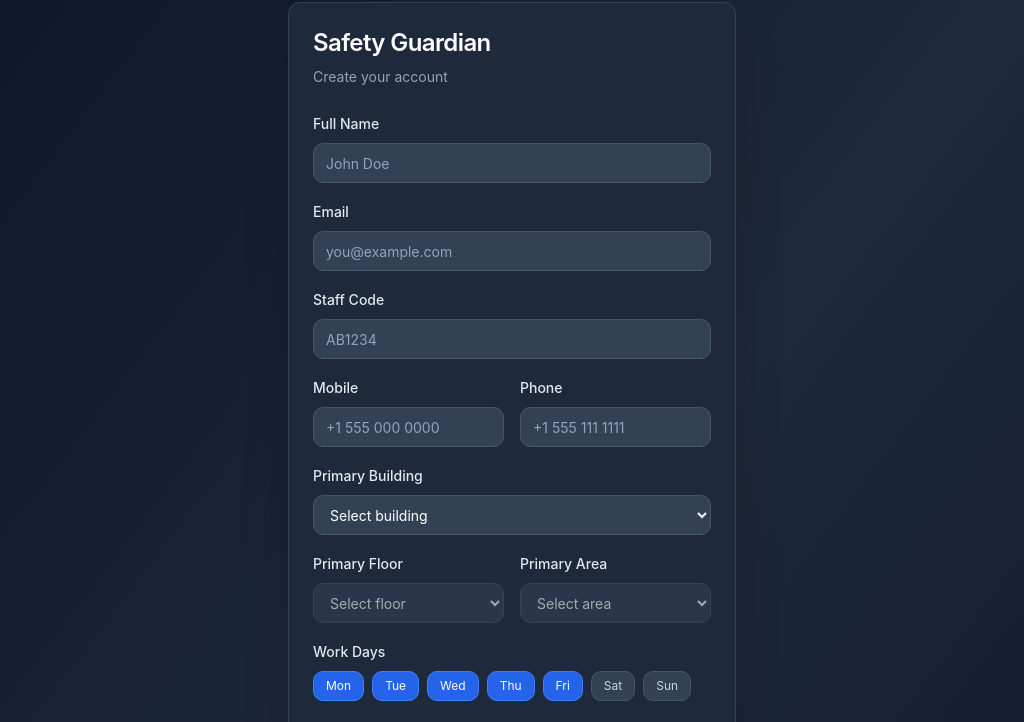
Test: Auth page UI negative states › shows register validation for short password and mismatched passwords
The image size is (1024, 722).
In the field labelled "Full Name": x=512, y=163 [313,143,711,183], type "Safety User"
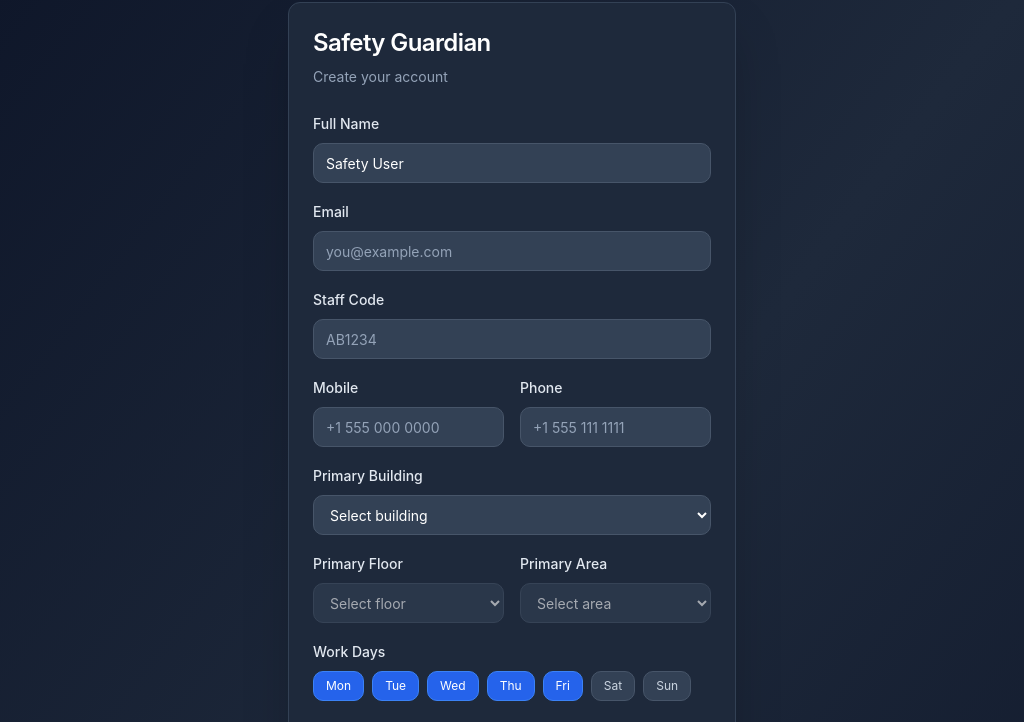
In the field labelled "Email": x=512, y=251 [313,231,711,271], type "user@example.com"
(page scrolled)
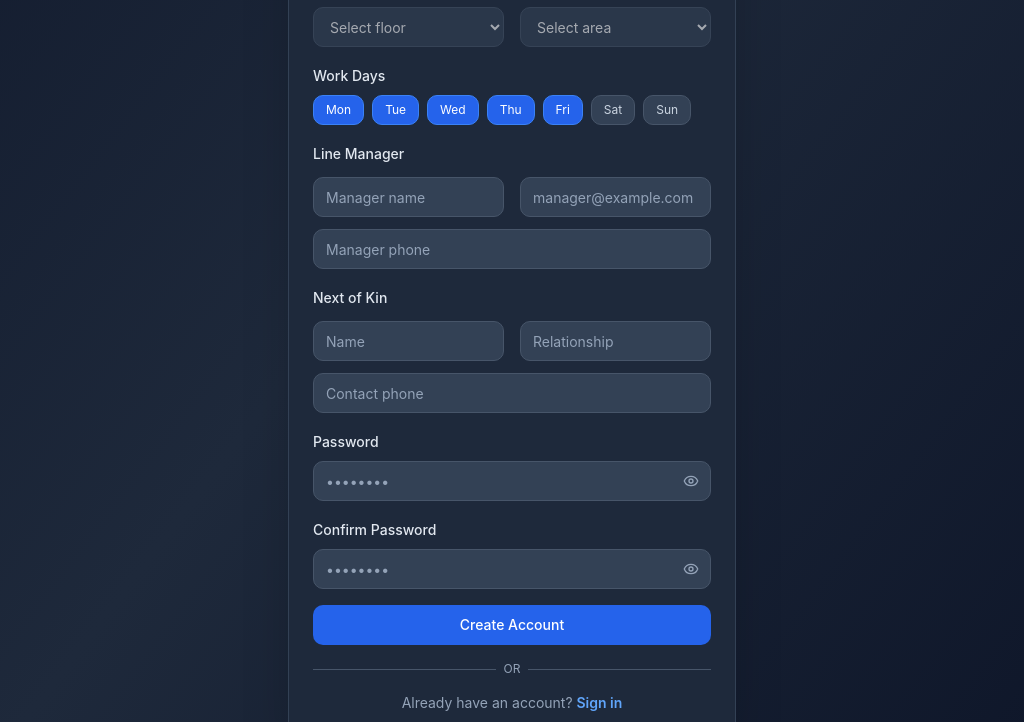
In the password field labelled "Password": x=512, y=481 [313,461,711,501], type "12345"
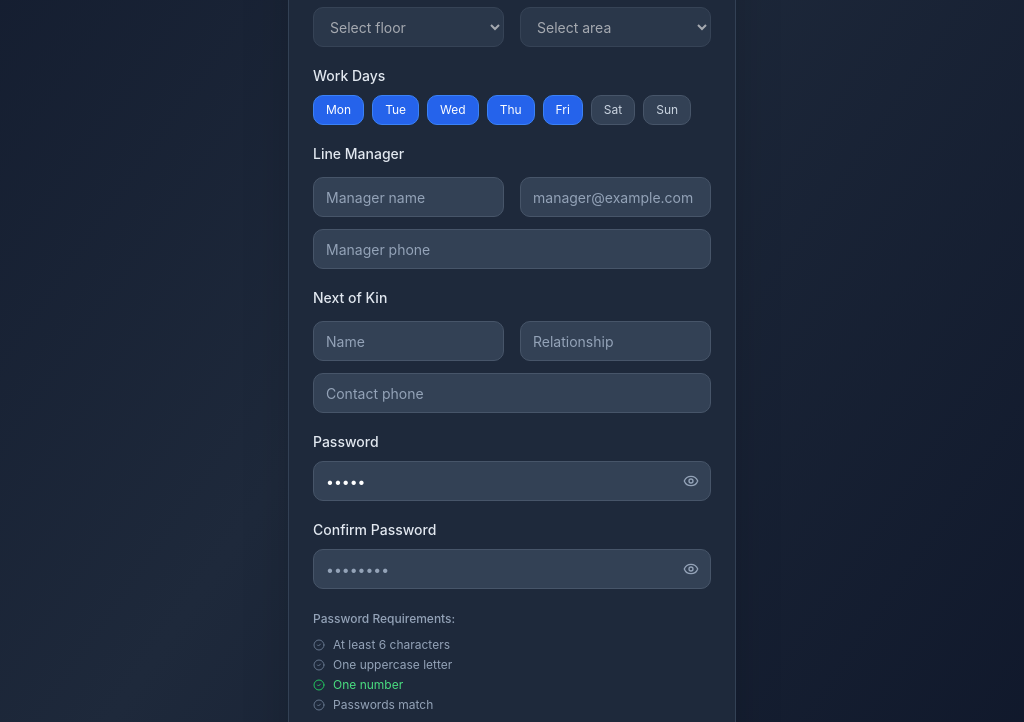
In the password field labelled "Confirm Password": x=512, y=569 [313,549,711,589], type "54321"
(page scrolled)
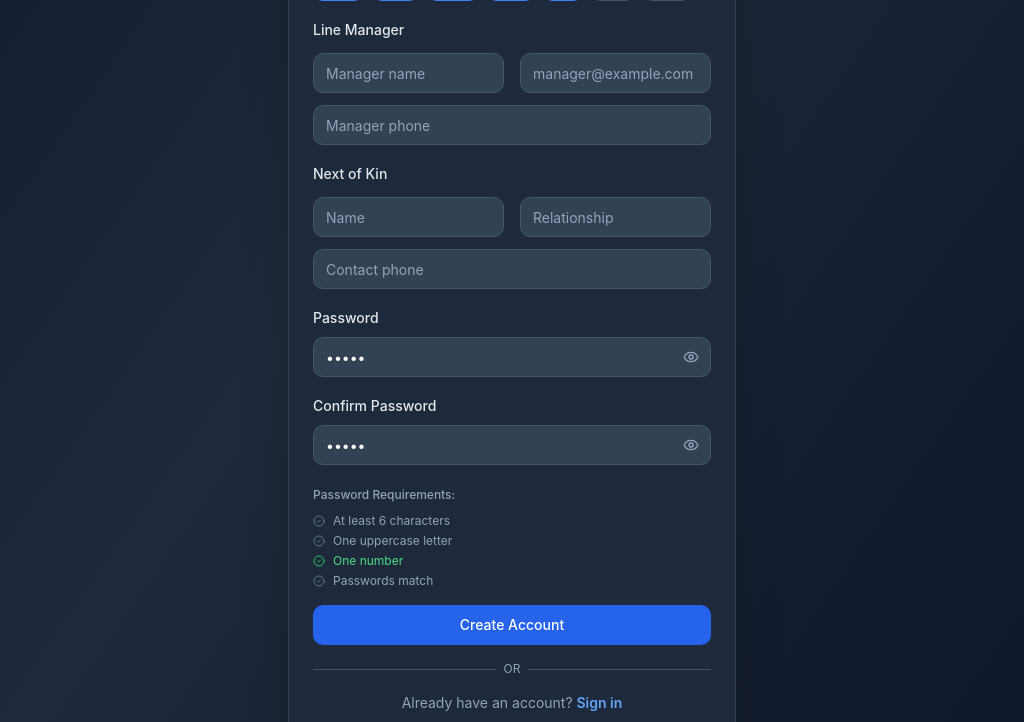
Click the button "Create Account": x=512, y=625 [313,605,711,645]
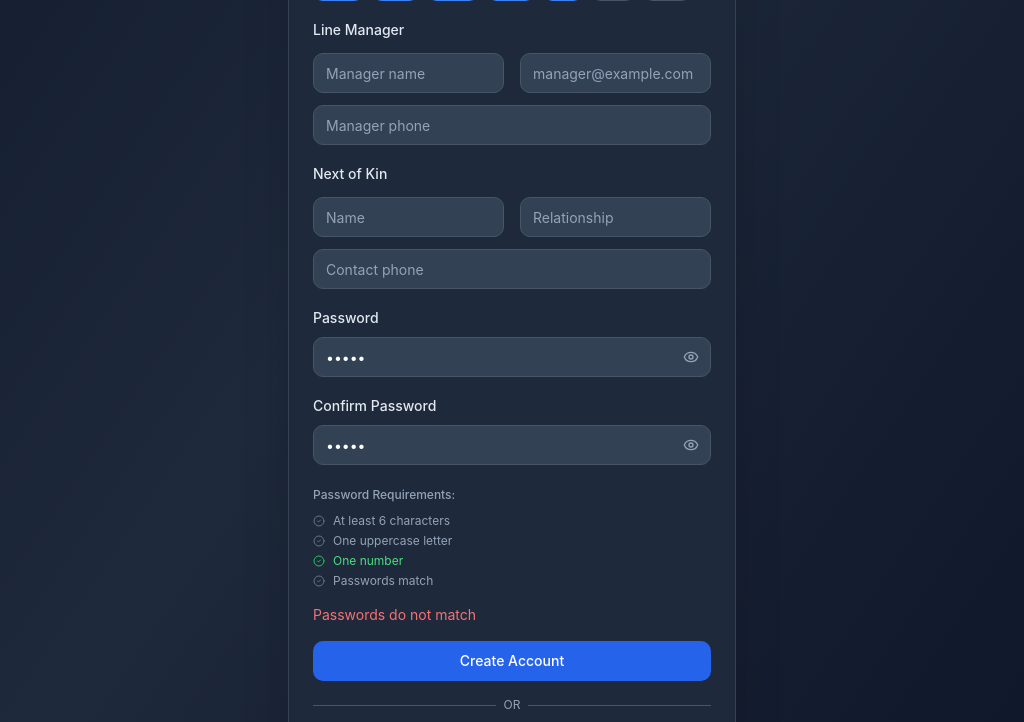
Expected: the text "Passwords do not match" is shown, [313,606,476,623]
